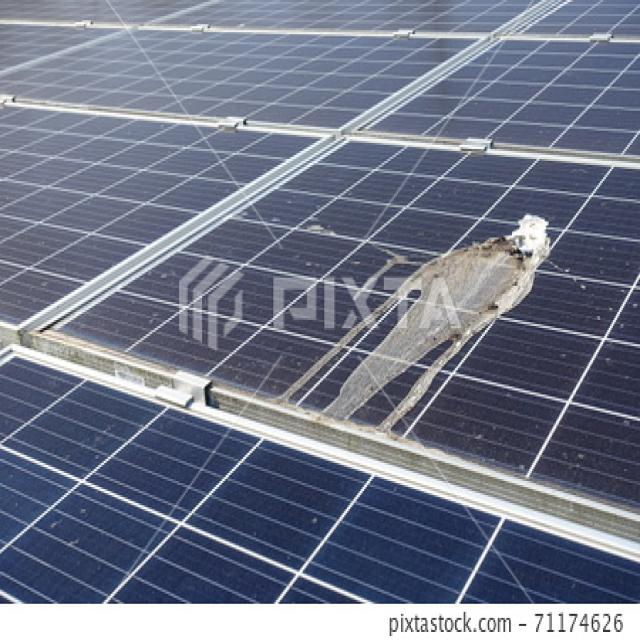dust-solar-panel: (0, 1, 640, 518)
